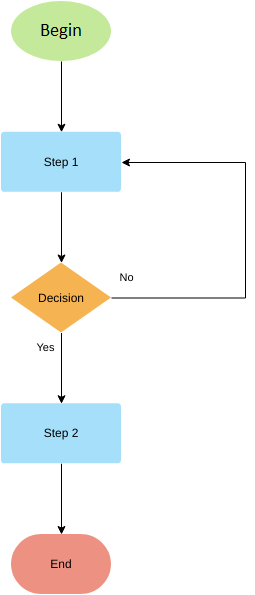arrow: (110, 158, 250, 301), (54, 330, 67, 405), (55, 462, 68, 533), (56, 191, 68, 266), (55, 60, 67, 132)
decision: (8, 261, 111, 334)
process: (1, 400, 123, 466), (1, 128, 123, 194)
terminator: (8, 531, 117, 595), (6, 1, 114, 64)
text: (38, 19, 82, 40), (34, 289, 85, 304), (40, 424, 80, 440), (41, 154, 81, 169), (48, 556, 73, 572), (33, 340, 59, 354), (116, 271, 133, 283)
